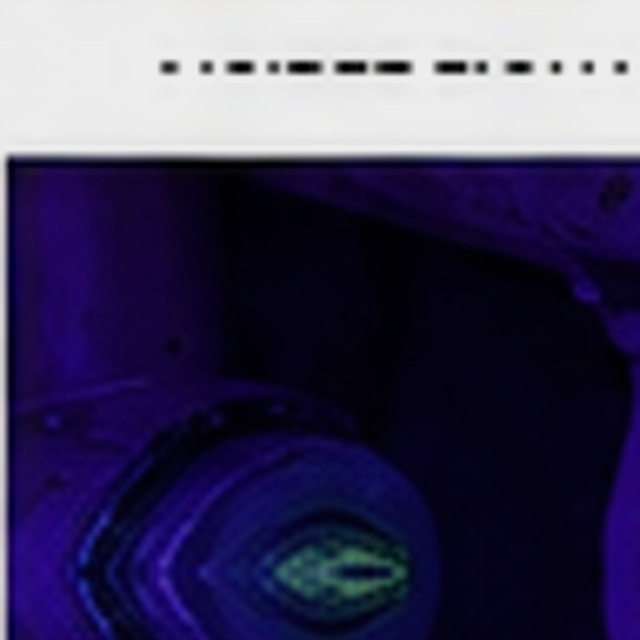hydraulic_oil_leak: (277, 548, 391, 596), (393, 567, 403, 577)
